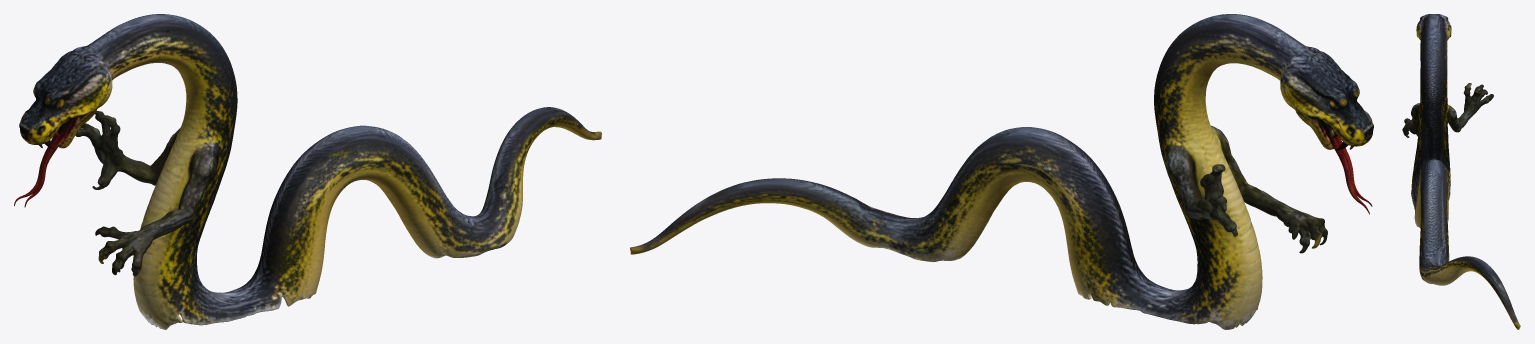
The model's file is jichi.glb.
3 renders of one model, left to right at view 1: azimuth 30°, elevation 25°; view 2: azimuth 150°, elevation 25°; view 3: azimuth 270°, elevation 25°, orthographic. The views are drawn at different scales.
Visible parts, largest first — view 1: node_0; view 2: node_0; view 3: node_0.
Part boxes in pixels (x1=…): node_0: x1=14, y1=14, x2=601, y2=329; node_0: x1=630, y1=14, x2=1373, y2=329; node_0: x1=1402, y1=14, x2=1520, y2=329.
Size of the model in its own units: 1.07 by 0.4747 by 0.3028.
1 material, 1 textured.
